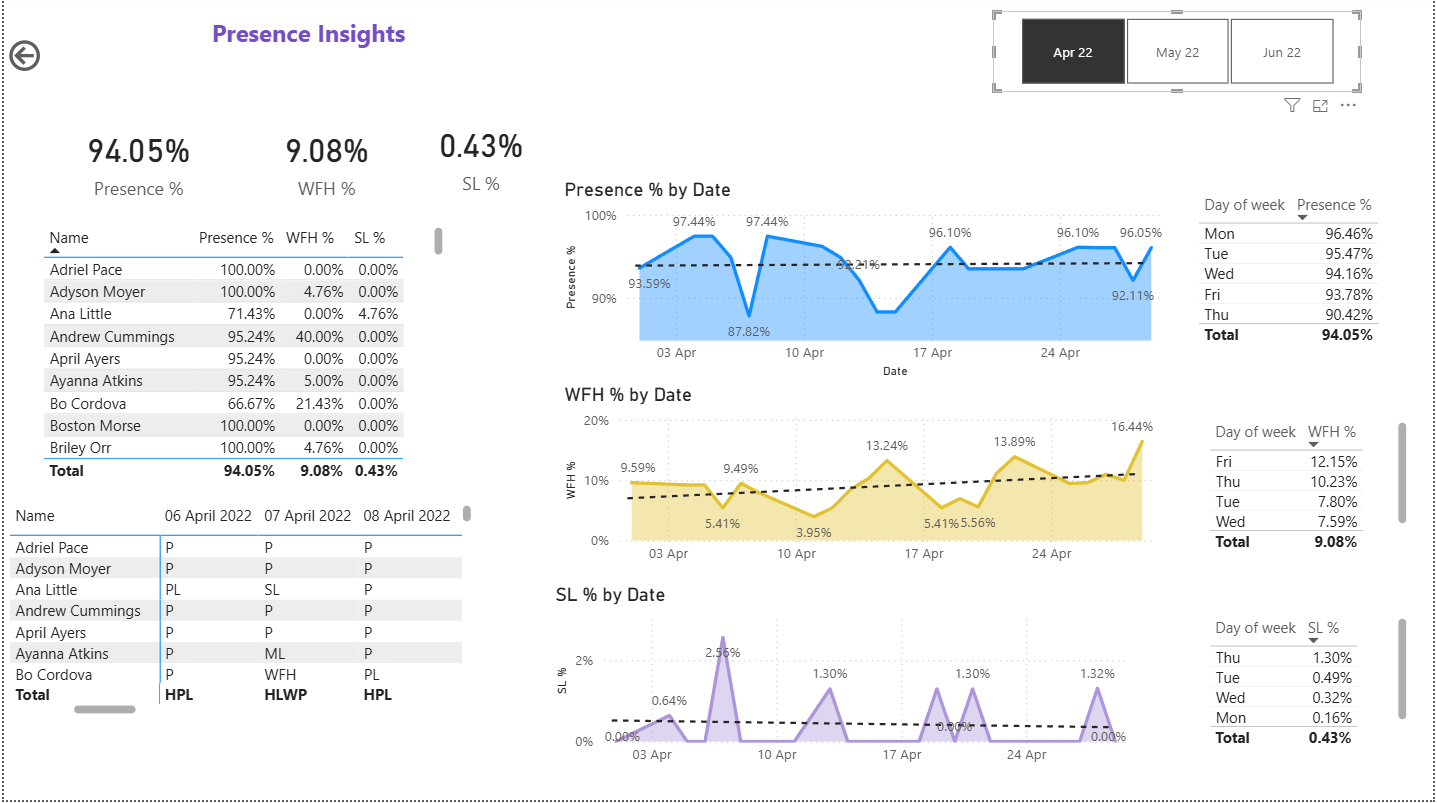

What the dashboard file says about the page in this screenshot:
{"tool":"powerbi","page":{"name":"Page 1","canvas":[1280,720],"ordinal":0},"visuals":[{"type":"card","fields":{"Values":["Measure Table.Presence %"]},"box":[41.2,100.3,158.5,94],"z":0},{"type":"slicer","fields":{"Values":["Final Data.Month"]},"box":[886.1,13.6,328.8,72],"z":1000},{"type":"card","fields":{"Values":["Measure Table.WFH %"]},"box":[212.2,100.3,153.1,94],"z":2000},{"type":"card","fields":{"Values":["Measure Table.SL %"]},"box":[365.4,100.3,123.6,86],"z":3000},{"type":"actionButton","box":[0,35,460.1,37],"z":4000},{"type":"textbox","box":[71.6,13.4,402.1,58.2],"z":5000},{"type":"tableEx","fields":{"Values":["Final Data.Name","Measure Table.Presence %","Measure Table.WFH %","Measure Table.SL %"]},"box":[29.6,201.5,369,237.3],"z":6000},{"type":"pivotTable","fields":{"Rows":["Final Data.Name"],"Values":["Min(Final Data.Value)"],"Columns":["Final Data.Date"]},"box":[0,450.4,423.6,197.9],"z":7000},{"type":"areaChart","fields":{"Category":["Final Data.Date"],"Y":["Measure Table.Presence %"]},"box":[497,163,553.4,183.6],"z":8000},{"type":"areaChart","fields":{"Category":["Final Data.Date"],"Y":["Measure Table.WFH %"]},"box":[497,346.6,545.4,171],"z":9000},{"type":"areaChart","fields":{"Category":["Final Data.Date"],"Y":["Measure Table.SL %"]},"box":[489,525.7,529.3,171.9],"z":10000},{"type":"tableEx","fields":{"Values":["Final Data.Day of week","Measure Table.Presence %"]},"box":[1064.1,173.1,197.4,155.6],"z":11000},{"type":"tableEx","fields":{"Values":["Final Data.Day of week","Measure Table.WFH %"]},"box":[1073.8,376.4,187.7,125.5],"z":12000},{"type":"tableEx","fields":{"Values":["Final Data.Day of week","Measure Table.SL %"]},"box":[1073.8,551.5,187.7,125.5],"z":13000}]}

Visuals, with their boxes in screenshot pixels (x1, y1, x2, y2), scaled from the page's 1280x720 canvas onto the 1437x803 screenshot:
card - Measure Table.Presence %: (46, 112, 224, 217)
slicer - Final Data.Month: (995, 15, 1364, 95)
card - Measure Table.WFH %: (238, 112, 410, 217)
card - Measure Table.SL %: (410, 112, 549, 208)
actionButton: (0, 39, 517, 80)
textbox: (80, 15, 532, 80)
tableEx - Final Data.Name x Measure Table.Presence %: (33, 225, 447, 489)
pivotTable - Final Data.Name x Min(Final Data.Value): (0, 502, 476, 723)
areaChart - Final Data.Date x Measure Table.Presence %: (558, 182, 1179, 387)
areaChart - Final Data.Date x Measure Table.WFH %: (558, 387, 1170, 577)
areaChart - Final Data.Date x Measure Table.SL %: (549, 586, 1143, 778)
tableEx - Final Data.Day of week x Measure Table.Presence %: (1195, 193, 1416, 367)
tableEx - Final Data.Day of week x Measure Table.WFH %: (1206, 420, 1416, 560)
tableEx - Final Data.Day of week x Measure Table.SL %: (1206, 615, 1416, 755)
